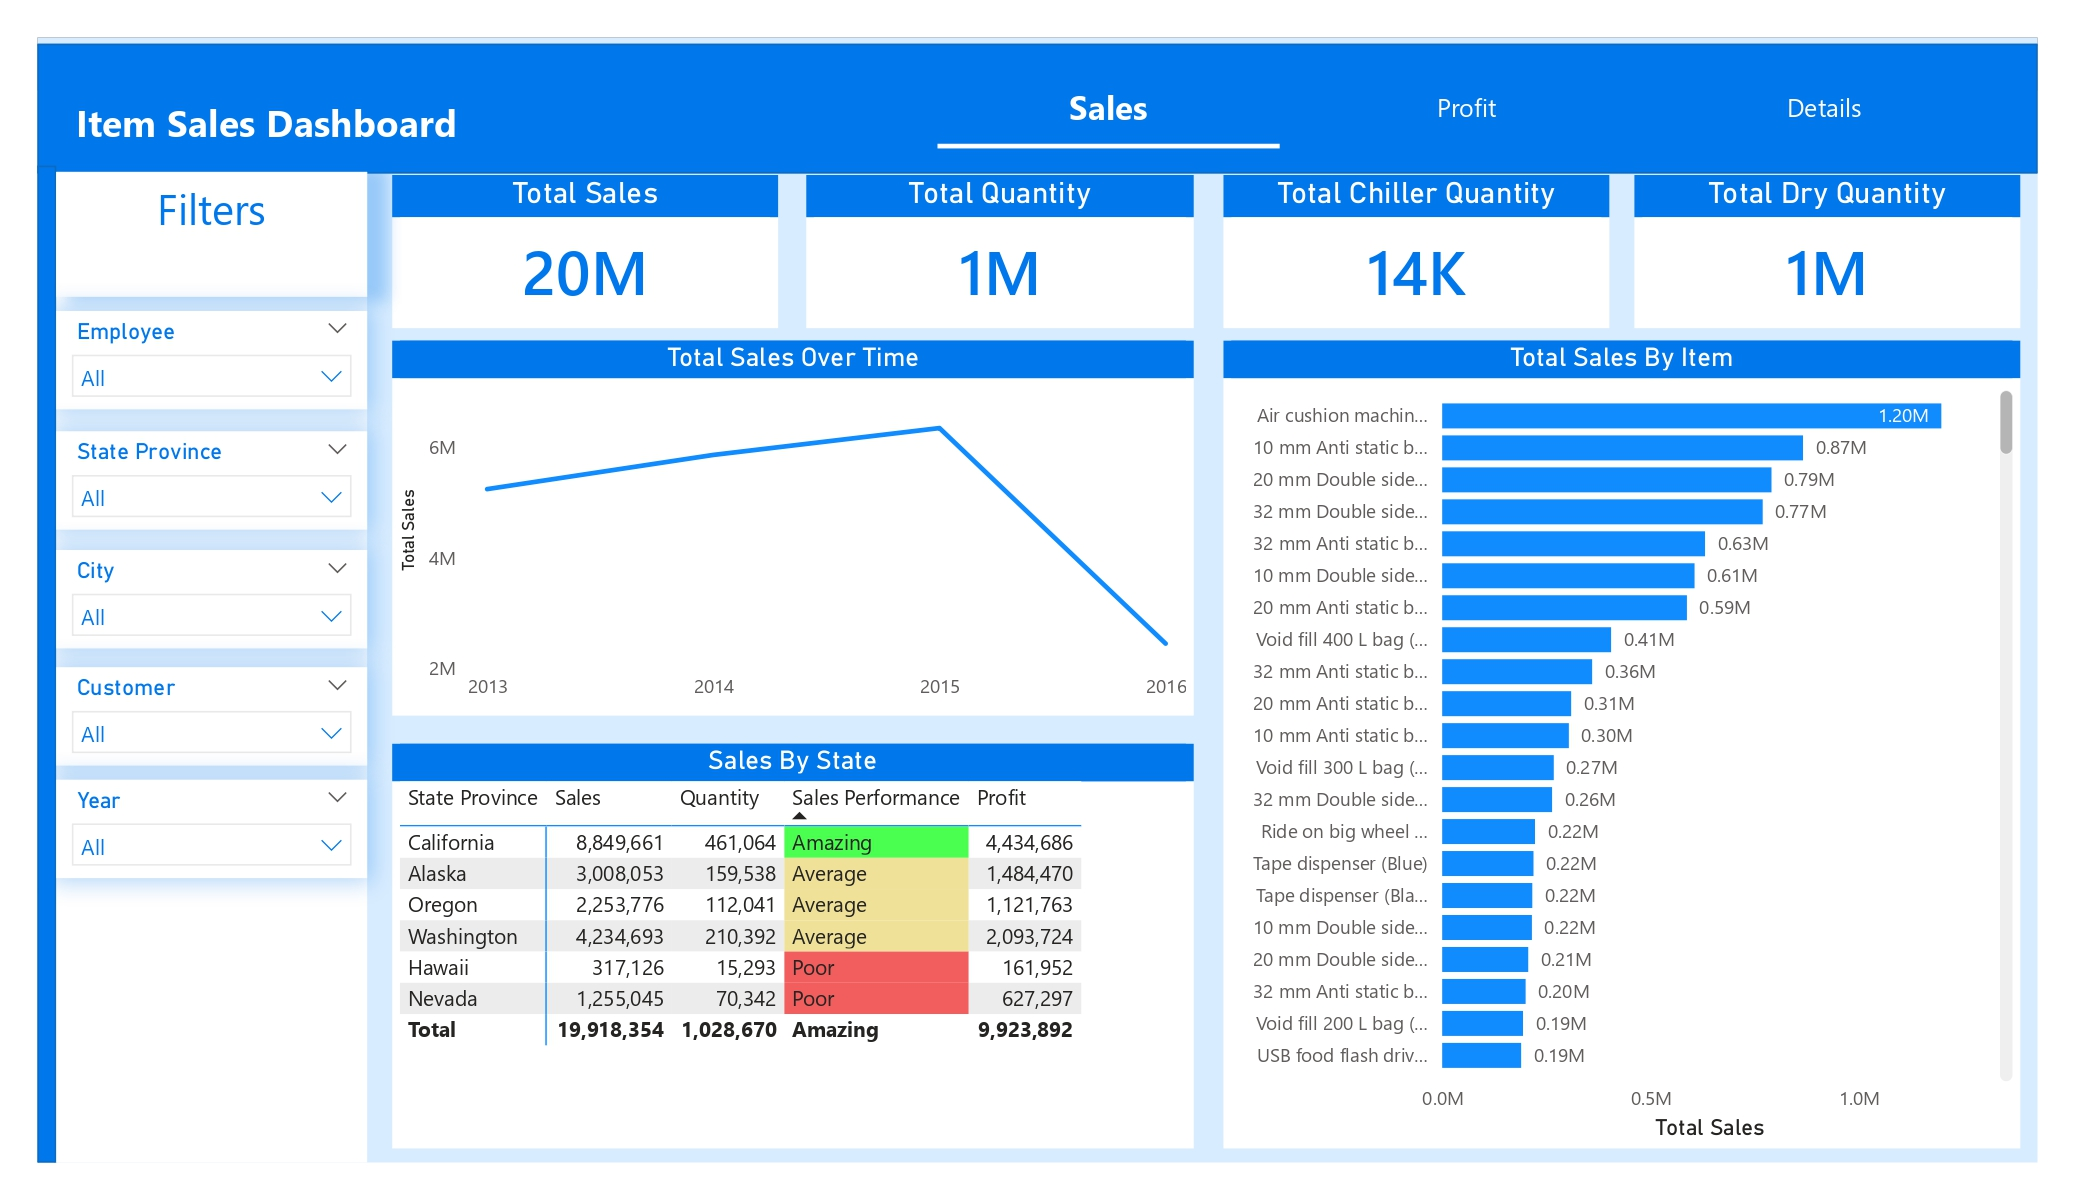

The dashboard page shown, as its layout file describes it:
{"tool":"powerbi","page":{"name":"Sales","canvas":[1280,720],"ordinal":6},"visuals":[{"type":"shape","box":[0,4.4,1280,83.1],"z":0},{"type":"shape","box":[0,82,12.1,638.2],"z":1000},{"type":"shape","box":[12.1,85.7,199.1,634.6],"z":2000},{"type":"textbox","box":[12.1,32.6,269,49.5],"z":3000},{"type":"cardVisual","title":"Total Sales","fields":{"Data":["FactSale.Total Sales"]},"box":[226.8,88.1,247.3,97.7],"z":4000},{"type":"cardVisual","title":"Total Quantity","fields":{"Data":["Sum(FactSale.Quantity)"]},"box":[492.2,88.1,247.3,97.7],"z":5000},{"type":"cardVisual","title":"Total Chiller Quantity","fields":{"Data":["Sum(FactSale.Total Chiller Items)"]},"box":[758.9,88.1,247.3,97.7],"z":6000},{"type":"cardVisual","title":"Total Dry Quantity","fields":{"Data":["Sum(FactSale.Total Dry Items)"]},"box":[1021.9,88.1,247.3,97.7],"z":7000},{"type":"textbox","box":[12.1,85.7,199.1,80.8],"z":8000},{"type":"lineChart","title":"Total Sales Over Time","fields":{"Y":["FactSale.Total Sales"],"Category":["DimDate.Date.Variation.Date Hierarchy.Year","DimDate.Date.Variation.Date Hierarchy.Quarter","DimDate.Date.Variation.Date Hierarchy.Month","DimDate.Date.Variation.Date Hierarchy.Day"]},"box":[226.8,194.2,512.7,240.1],"z":9000},{"type":"barChart","title":"Total Sales By Item","fields":{"Y":["FactSale.Total Sales"],"Category":["FactSale.Stock Item Name"]},"box":[758.9,194.2,510.3,516.4],"z":10000},{"type":"pivotTable","title":"Sales By State","fields":{"Rows":["DimCity.State Province"],"Values":["FactSale.Total Sales","Sum(FactSale.Quantity)","FactSale.Sales Performance","Sum(FactSale.Profit)"]},"box":[226.8,452.4,512.7,258.2],"z":11000},{"type":"slicer","fields":{"Values":["DimEmployee.Employee"]},"box":[12.1,174.9,199.1,62.7],"z":12000},{"type":"slicer","fields":{"Values":["DimCity.State Province"]},"box":[12.1,252.1,199.1,62.7],"z":13000},{"type":"slicer","fields":{"Values":["DimCity.City"]},"box":[12.1,328.2,199.1,62.7],"z":14000},{"type":"slicer","fields":{"Values":["DimCustomer.Customer"]},"box":[12.1,403,199.1,62.7],"z":15000},{"type":"slicer","fields":{"Values":["DimDate.Fiscal Year"]},"box":[11.7,475.3,199.7,62.7],"z":16000},{"type":"pageNavigator","box":[575.9,17.5,677.9,53.9],"z":17001}]}

Visuals, with their boxes on the page's 1280x720 design canvas (x1, y1, x2, y2). These are canvas units, not pixel positions in the 2075x1200 screenshot, which may show the page scaled, cropped or inside an application window:
shape: {"left": 0, "top": 4, "right": 1280, "bottom": 88}
shape: {"left": 0, "top": 82, "right": 12, "bottom": 720}
shape: {"left": 12, "top": 86, "right": 211, "bottom": 720}
textbox: {"left": 12, "top": 33, "right": 281, "bottom": 82}
"Total Sales" cardVisual: {"left": 227, "top": 88, "right": 474, "bottom": 186}
"Total Quantity" cardVisual: {"left": 492, "top": 88, "right": 740, "bottom": 186}
"Total Chiller Quantity" cardVisual: {"left": 759, "top": 88, "right": 1006, "bottom": 186}
"Total Dry Quantity" cardVisual: {"left": 1022, "top": 88, "right": 1269, "bottom": 186}
textbox: {"left": 12, "top": 86, "right": 211, "bottom": 166}
"Total Sales Over Time" lineChart: {"left": 227, "top": 194, "right": 740, "bottom": 434}
"Total Sales By Item" barChart: {"left": 759, "top": 194, "right": 1269, "bottom": 711}
"Sales By State" pivotTable: {"left": 227, "top": 452, "right": 740, "bottom": 711}
slicer - DimEmployee.Employee: {"left": 12, "top": 175, "right": 211, "bottom": 238}
slicer - DimCity.State Province: {"left": 12, "top": 252, "right": 211, "bottom": 315}
slicer - DimCity.City: {"left": 12, "top": 328, "right": 211, "bottom": 391}
slicer - DimCustomer.Customer: {"left": 12, "top": 403, "right": 211, "bottom": 466}
slicer - DimDate.Fiscal Year: {"left": 12, "top": 475, "right": 211, "bottom": 538}
pageNavigator: {"left": 576, "top": 18, "right": 1254, "bottom": 71}
